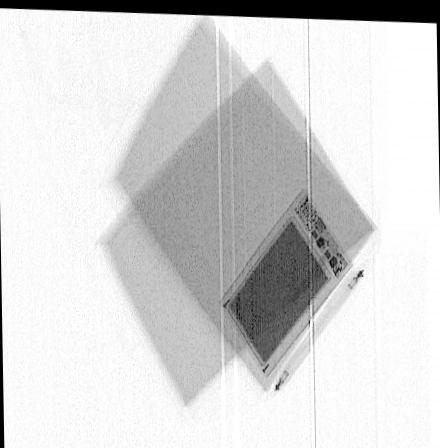Powerbank: (219, 184, 354, 373)
